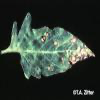Tomato Septoria leaf spot: (4, 11, 94, 85)
